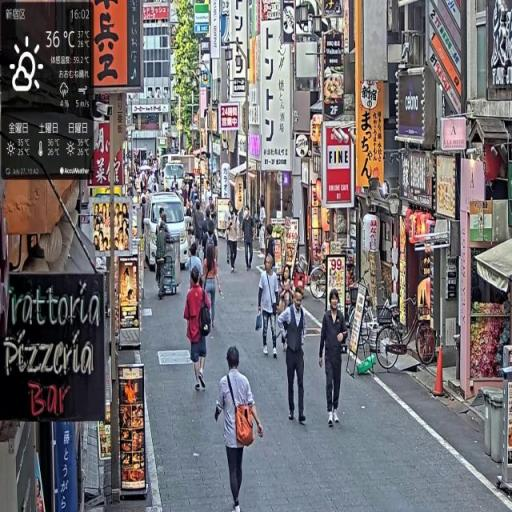person: (216, 345, 265, 512), (279, 282, 310, 427), (319, 288, 349, 429), (184, 266, 213, 395), (257, 255, 283, 364), (243, 206, 256, 273), (227, 211, 240, 273)
